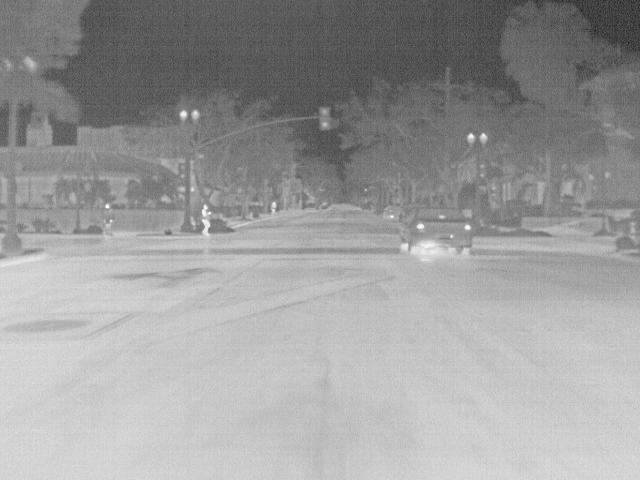car: (399, 208, 472, 259), (382, 204, 401, 222), (304, 200, 319, 212)
person: (101, 201, 115, 236), (200, 203, 212, 238), (269, 200, 279, 212)
